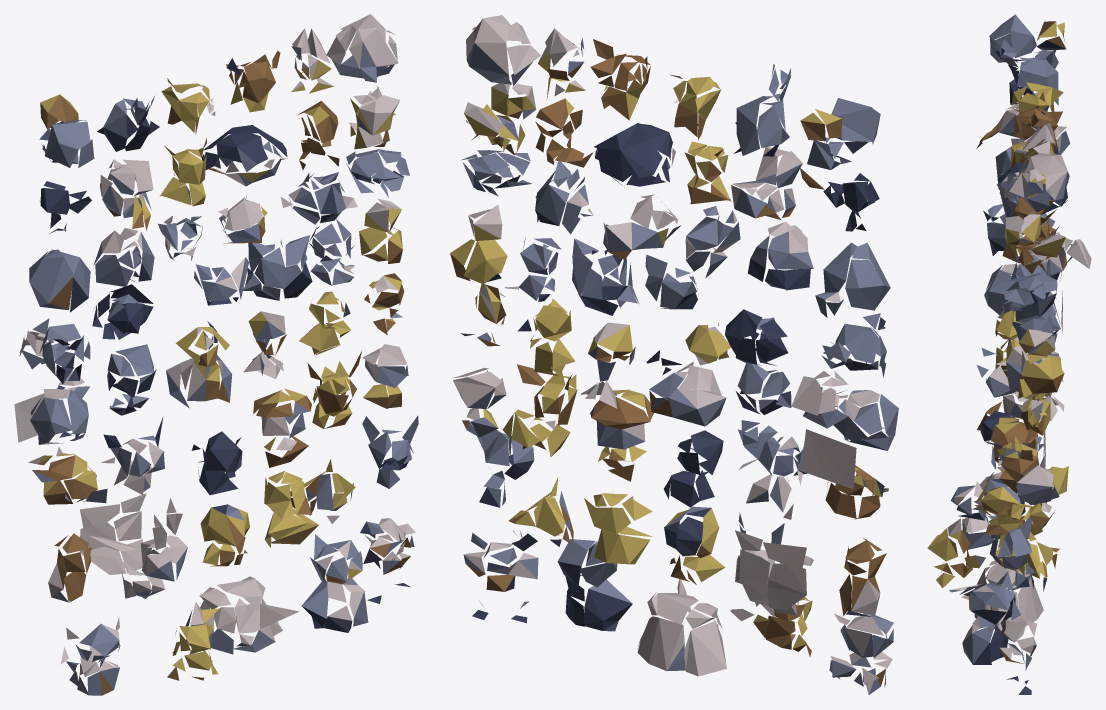
File: pokemon-like-3d-model-toybox.glb
3 views of the same model, side by side, from view 1: azimuth 30°, elevation 25°; view 2: azimuth 150°, elevation 25°; view 3: azimuth 270°, elevation 25° (orthographic). The views are drawn at different scales.
Visible parts, largest first — view 1: pokemon-like-3d-model-toybox; view 2: pokemon-like-3d-model-toybox; view 3: pokemon-like-3d-model-toybox.
Boxes of the visible parts, x1,y1,x2,y2 form: pokemon-like-3d-model-toybox: (14, 14, 418, 695); pokemon-like-3d-model-toybox: (450, 15, 898, 694); pokemon-like-3d-model-toybox: (927, 14, 1091, 694).
Bounding box in the file's own units: 0.5691 × 0.7973 × 0.2205.
